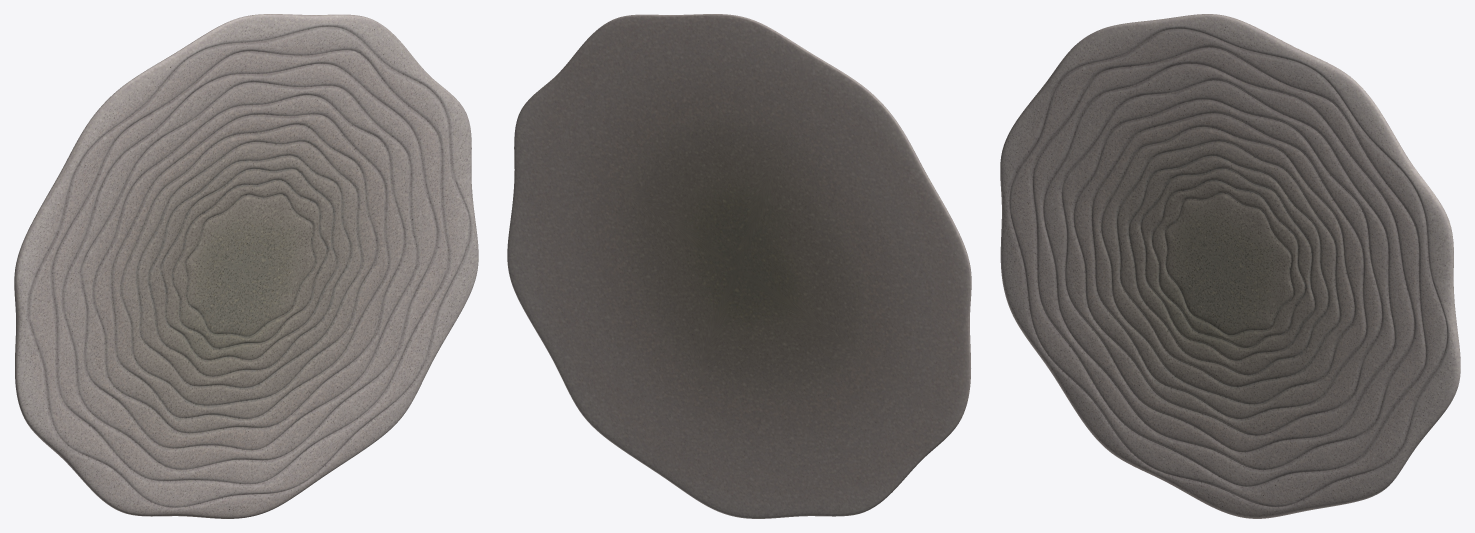
Rendered from Alfombra.fbx.
The picture shows the model from 3 angles, left to right: view 1: azimuth 30°, elevation 25°; view 2: azimuth 150°, elevation 25°; view 3: azimuth 330°, elevation 25°; orthographic projection.
Visible parts, largest first — view 1: 10404_Circular_Throw_Rug_v1_max2010_iterations-2; view 2: 10404_Circular_Throw_Rug_v1_max2010_iterations-2; view 3: 10404_Circular_Throw_Rug_v1_max2010_iterations-2.
Part boxes in pixels (x1=…): 10404_Circular_Throw_Rug_v1_max2010_iterations-2: x1=14, y1=14, x2=478, y2=518; 10404_Circular_Throw_Rug_v1_max2010_iterations-2: x1=507, y1=14, x2=971, y2=518; 10404_Circular_Throw_Rug_v1_max2010_iterations-2: x1=1000, y1=14, x2=1460, y2=518.
Bounding box in the file's own units: 17230 × 17799 × 300.
